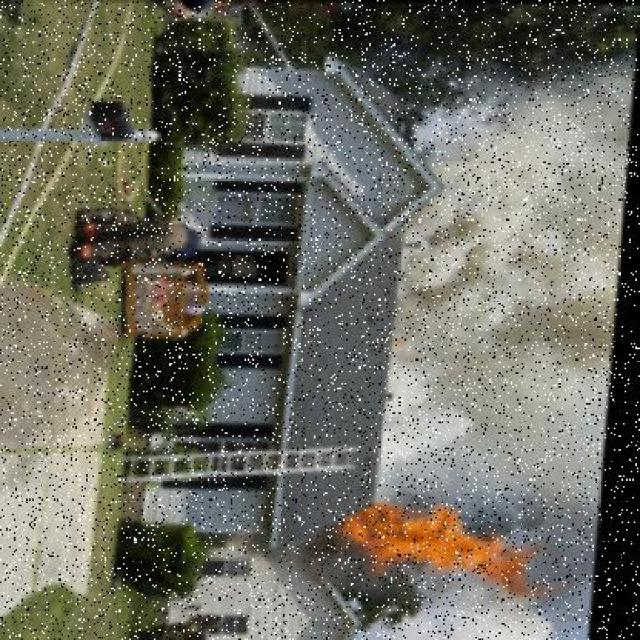fire: (344, 497, 553, 599)
